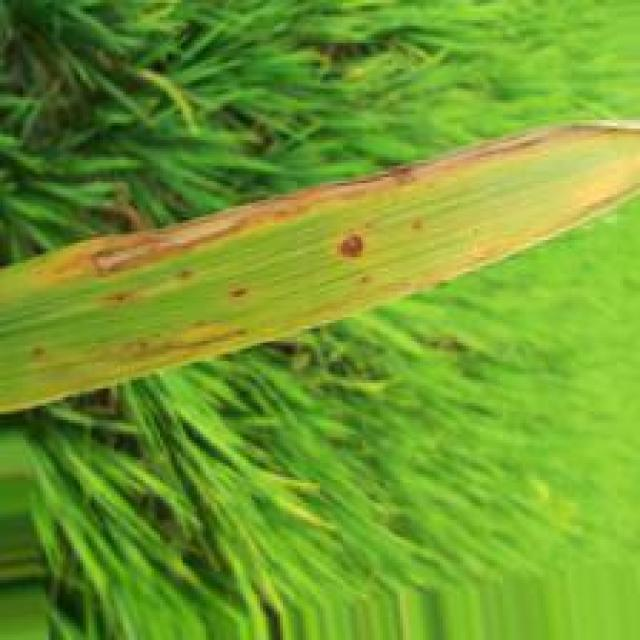Leaf_Blast: (0, 178, 633, 411), (17, 120, 640, 305)
